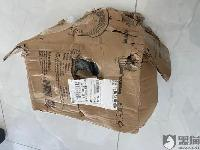damaged package: (61, 46, 117, 92), (112, 48, 141, 72)
undamaged: (5, 6, 175, 140)
